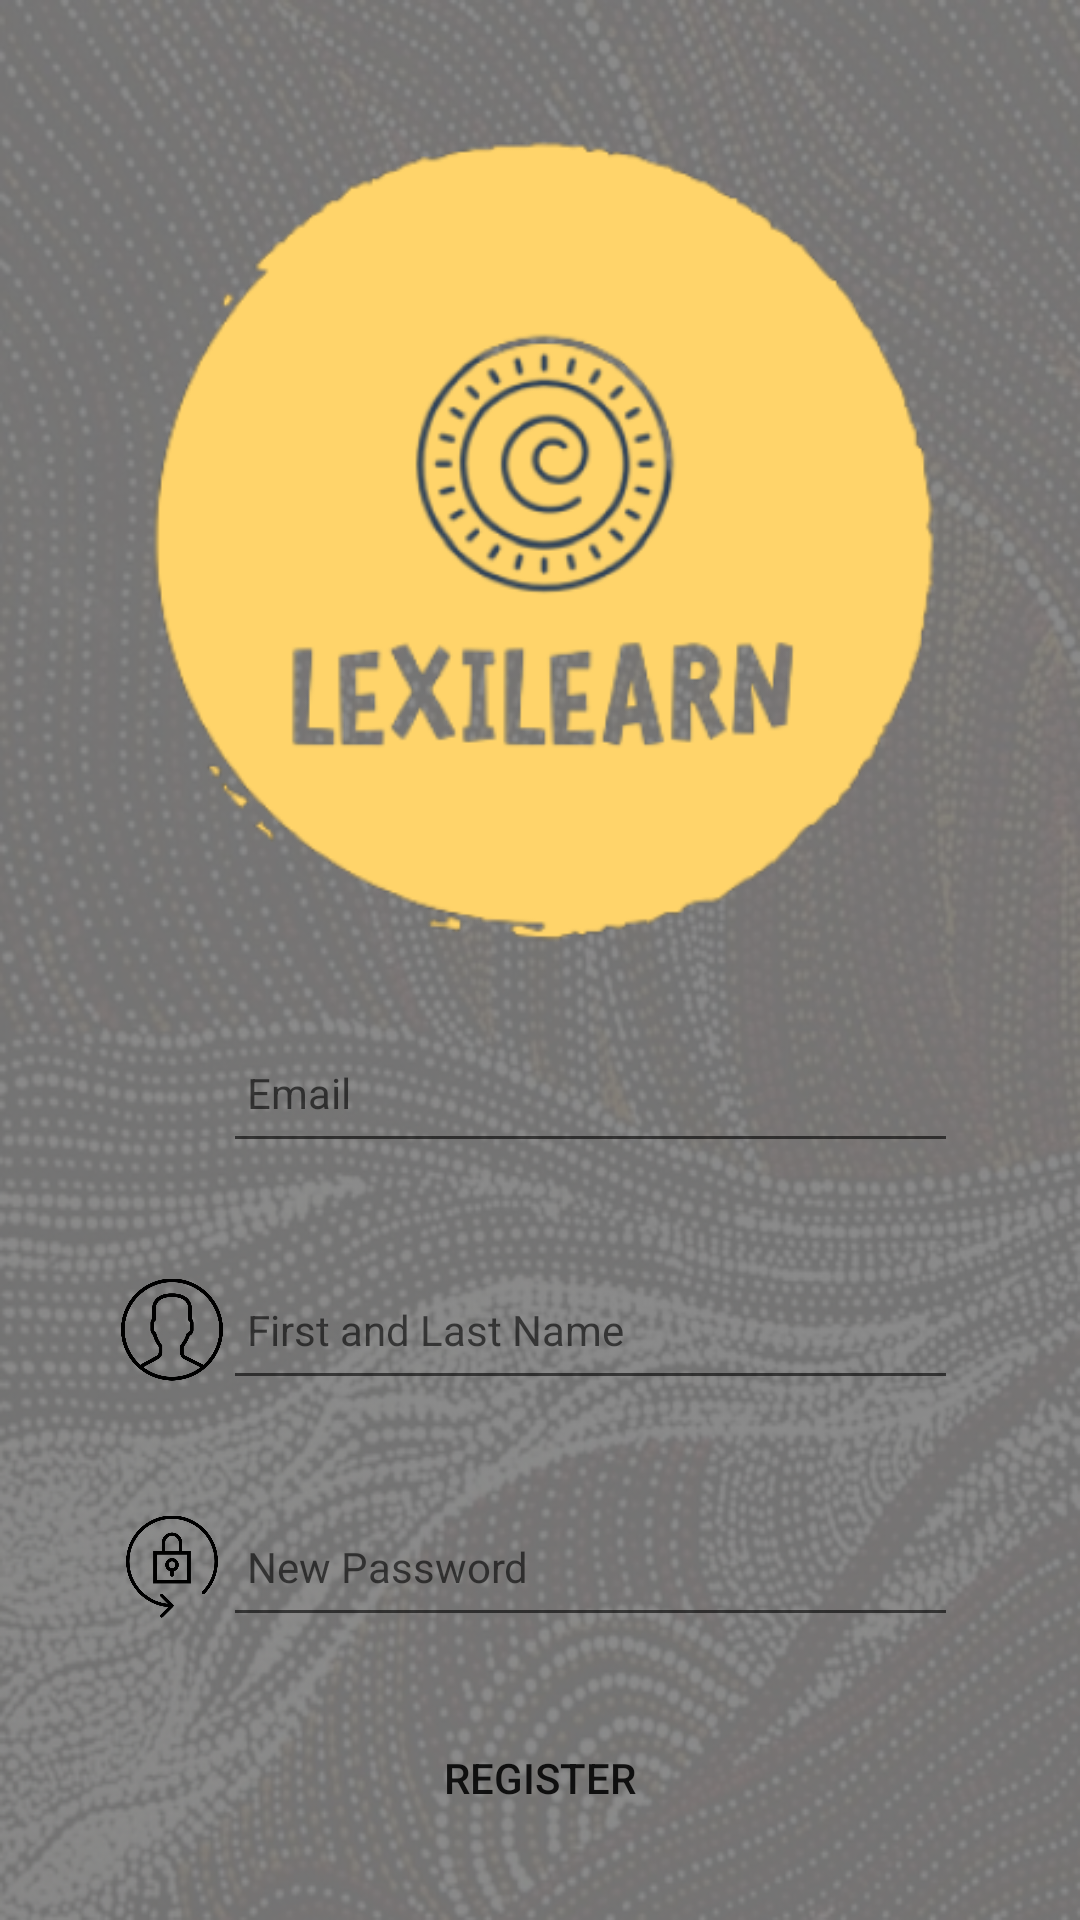

Point at icon controls on the screen. Image size 1080*1920, points as [x,y].
user: [172,1330]
